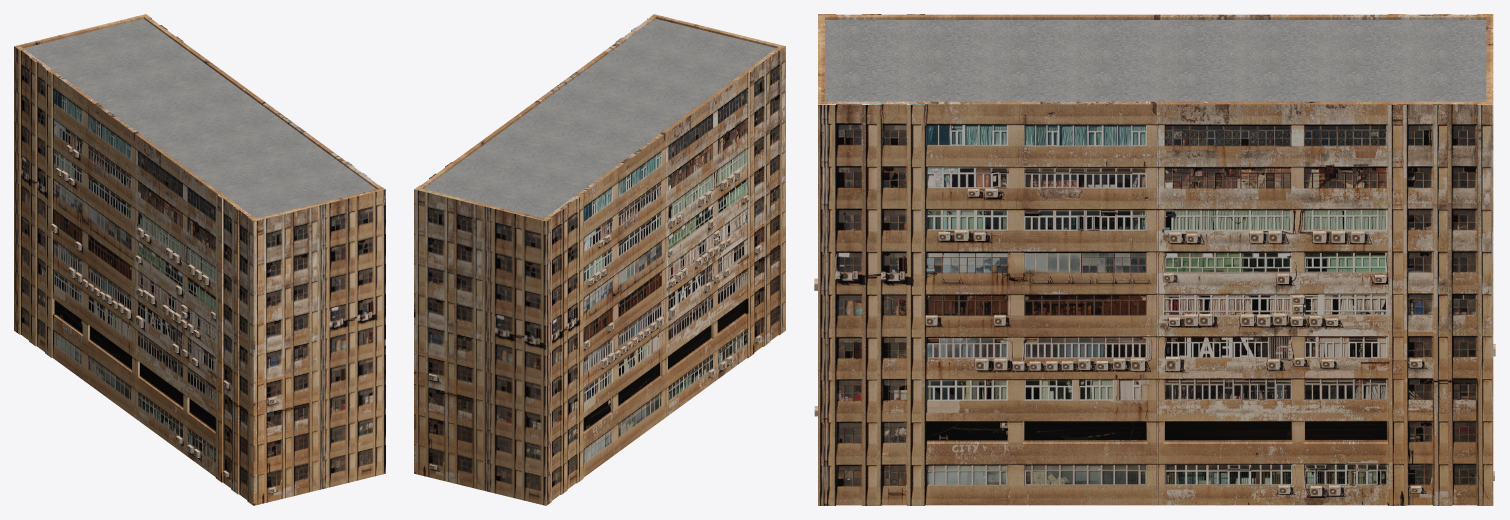
Rendered from building33.glb.
3 views of the same model, side by side, from view 1: azimuth 30°, elevation 25°; view 2: azimuth 150°, elevation 25°; view 3: azimuth 270°, elevation 25° (orthographic). The views are drawn at different scales.
Parts seen in each view (by area): view 1: Building; view 2: Building; view 3: Building.
Part boxes in pixels (bbox=[...]): Building: bbox=[14, 14, 385, 505]; Building: bbox=[414, 14, 785, 505]; Building: bbox=[814, 14, 1495, 505].
Bounding box in the file's own units: 550 × 1098 × 1692.
Materials: 2 (2 with a texture image).
